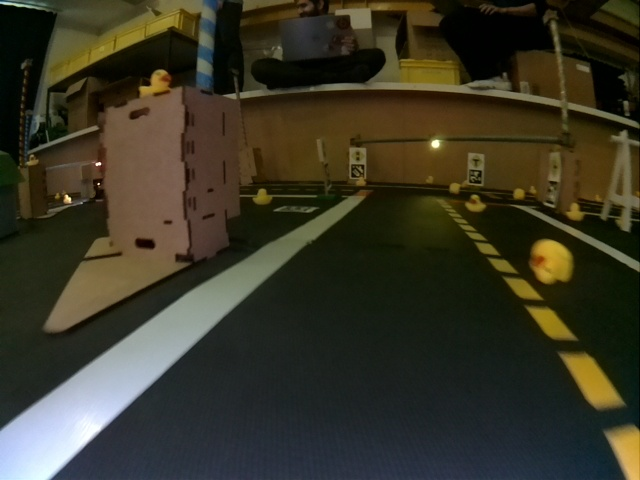Duckie: (530, 242, 573, 284), (140, 70, 170, 96), (566, 203, 584, 221), (466, 195, 484, 211), (253, 190, 271, 204), (27, 155, 38, 164), (450, 183, 460, 192), (357, 178, 366, 187), (514, 189, 522, 199), (426, 176, 434, 185), (64, 195, 72, 204), (530, 186, 538, 195), (594, 196, 603, 203)
Intersection sign: (467, 153, 485, 169), (550, 154, 560, 177)
QR code: (281, 204, 313, 213), (544, 187, 557, 205), (349, 166, 366, 179), (469, 171, 482, 186)
Traffic light: (431, 139, 439, 149)
